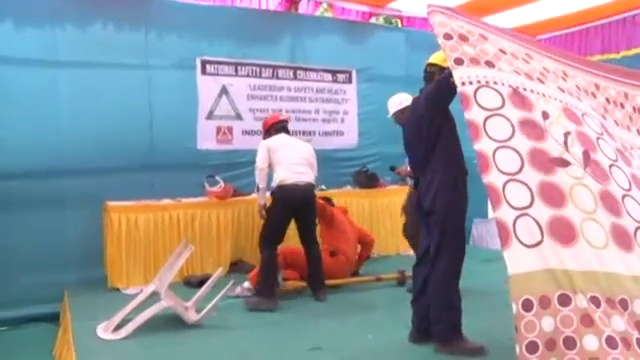helmet: (387, 92, 413, 118), (261, 113, 288, 137), (425, 48, 453, 68)
helmet_on: (422, 48, 451, 92), (385, 92, 414, 128), (259, 113, 293, 141)
person: (404, 49, 490, 355), (242, 112, 330, 316), (236, 193, 375, 293)
